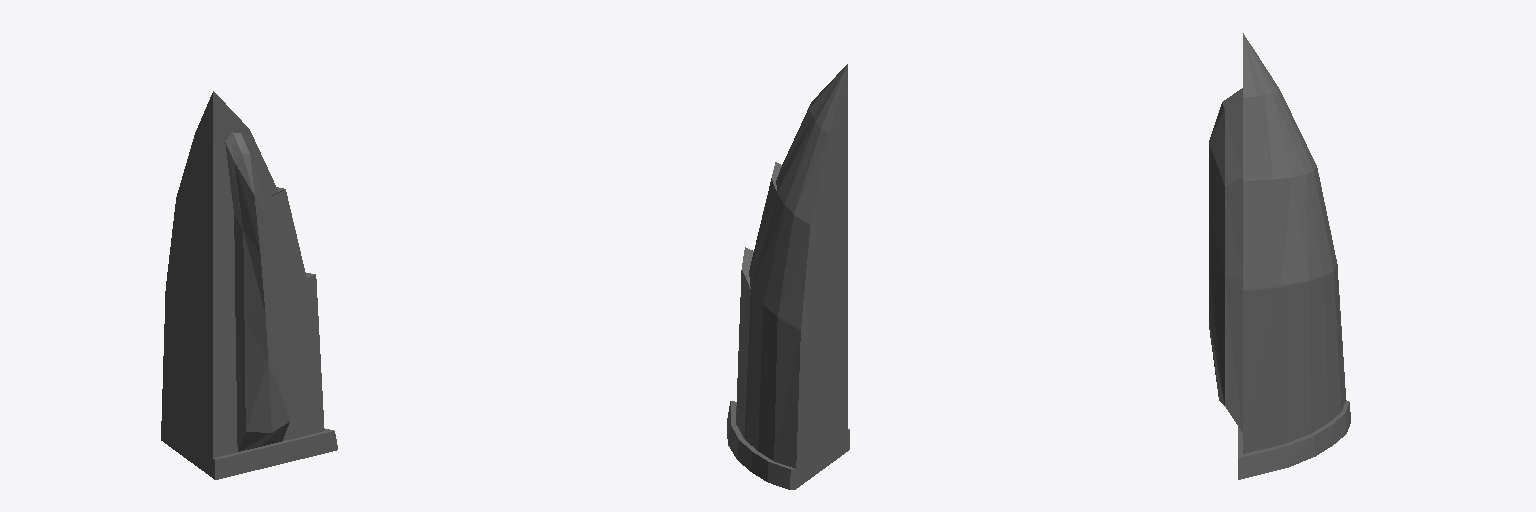
Rendered from floatl.obj.
3 renders of one model, left to right at view 1: azimuth 30°, elevation 25°; view 2: azimuth 150°, elevation 25°; view 3: azimuth 270°, elevation 25°, orthographic.
Parts seen in each view (by area): view 1: floatl; view 2: floatl; view 3: floatl.
Part boxes in pixels (left/top/right/bottom): floatl: left=161, top=91, right=337, bottom=479; floatl: left=727, top=64, right=849, bottom=489; floatl: left=1209, top=33, right=1350, bottom=479.
Bounding box in the file's own units: 5.97 × 17.95 × 5.98.